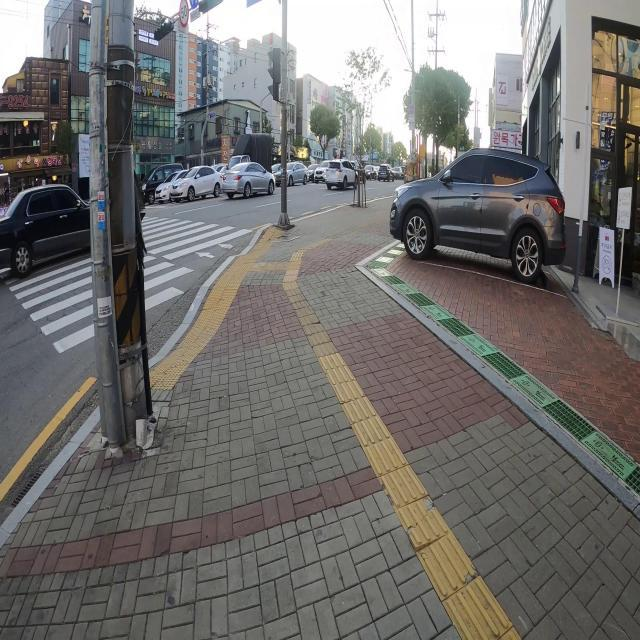crosswalk: (2, 210, 256, 360)
